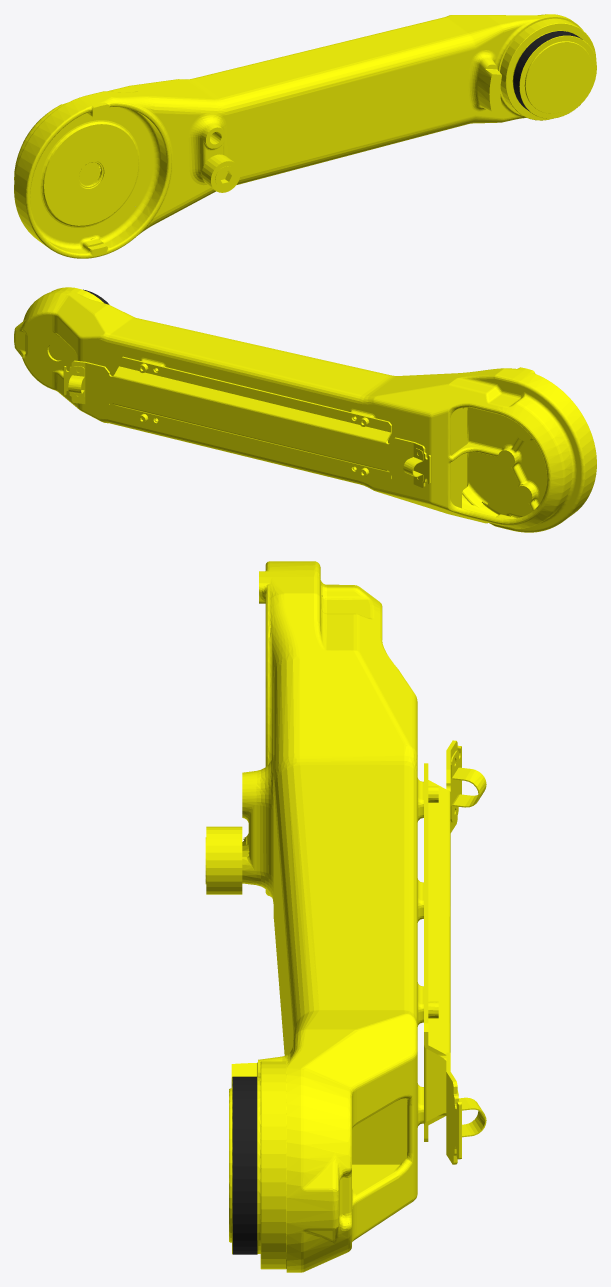
3 views of the same model, one above another, from view 1: azimuth 30°, elevation 25°; view 2: azimuth 150°, elevation 25°; view 3: azimuth 270°, elevation 25° (orthographic). The views are drawn at different scales.
Parts seen in each view (by area): view 1: node; view 2: node; view 3: node.
Part boxes in pixels (left/top/right/bottom): node: left=14, top=14, right=596, bottom=258; node: left=14, top=287, right=596, bottom=532; node: left=205, top=561, right=486, bottom=1272.
Bounding box in the file's own units: 1000 × 256 × 277.
